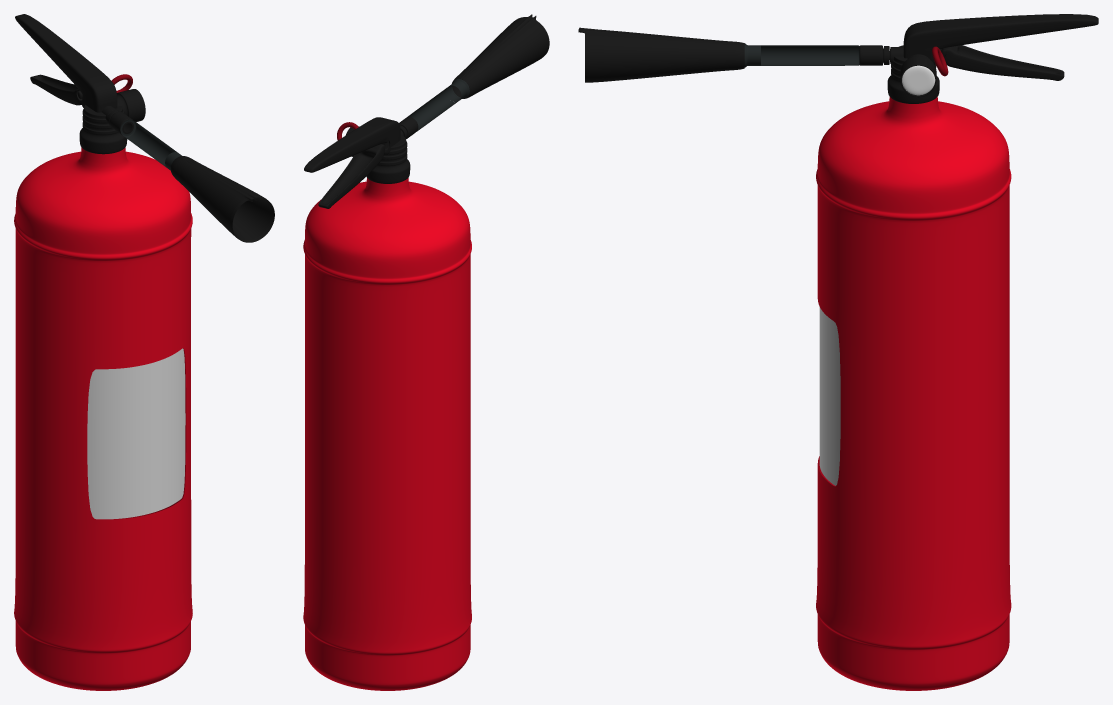
The picture shows the model from 3 angles, left to right: view 1: azimuth 30°, elevation 25°; view 2: azimuth 150°, elevation 25°; view 3: azimuth 270°, elevation 25°; orthographic projection. The views are drawn at different scales.
Parts seen in each view (by area): view 1: FE 1, FE 1.001, FE 6, FE 7, FE 2, FE 8; view 2: FE 1, FE 7, FE 6, FE 2, FE 8; view 3: FE 1, FE 7, FE 6, FE 1.001, FE 8, FE 2, FE 5.
Part boxes in pixels (x1,y1,x2,y2): FE 1: (14,147,192,690); FE 1.001: (87,348,185,519); FE 6: (170,156,274,242); FE 7: (15,14,117,112); FE 2: (76,89,145,154); FE 8: (120,119,181,170); FE 1: (303,178,471,690); FE 7: (304,117,400,208); FE 6: (452,14,549,98); FE 2: (345,117,418,183); FE 8: (406,79,469,131); FE 1: (816,97,1011,690); FE 7: (903,14,1098,80); FE 6: (578,27,744,82); FE 1.001: (819,307,840,485); FE 8: (744,43,859,67); FE 2: (859,45,946,103); FE 5: (902,65,935,95).
Size of the model in its own units: 256 by 925 by 682.
